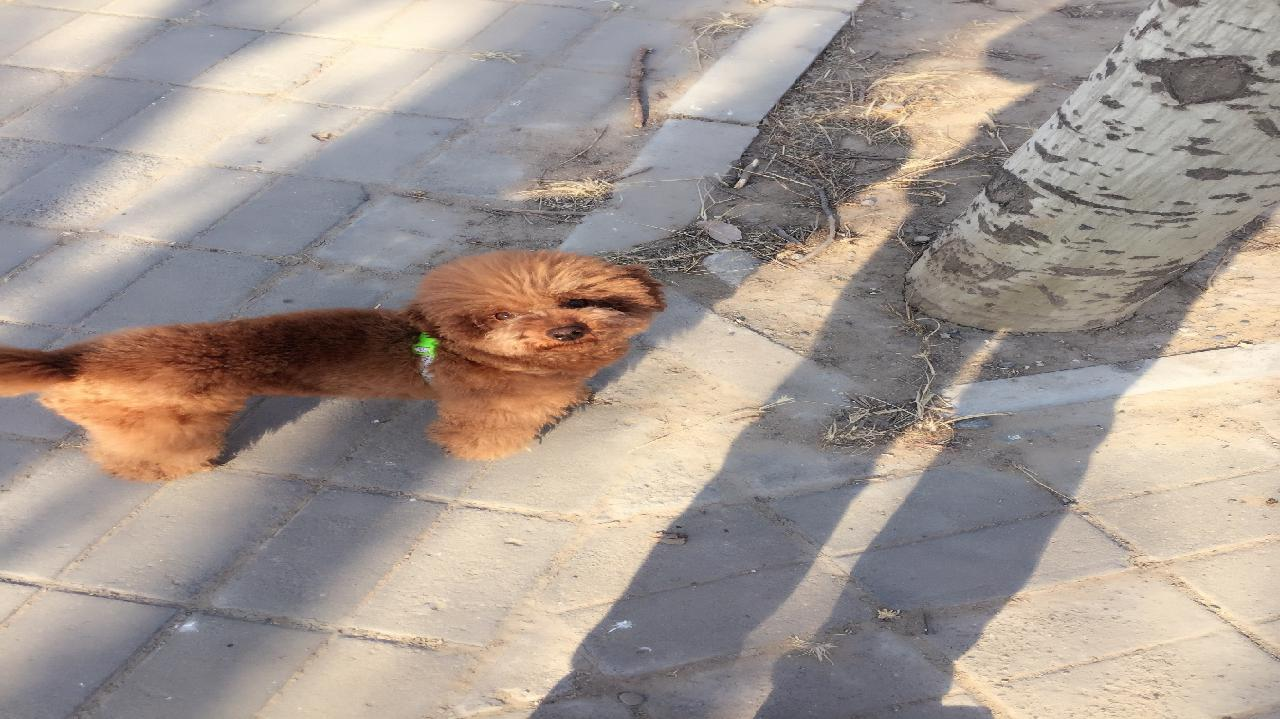zhuangzhuang: (1, 250, 660, 489)
